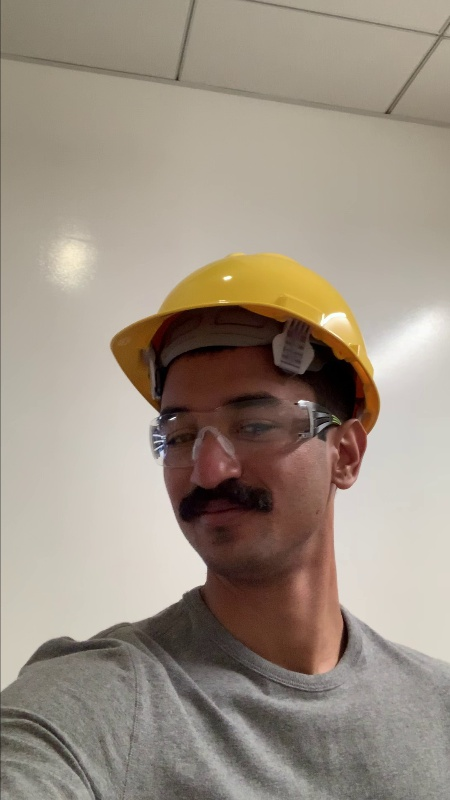glasses: (138, 398, 320, 459)
helmet: (138, 246, 369, 330)
